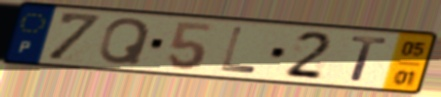2: (279, 30, 337, 82)
5: (165, 19, 216, 73)
7: (49, 10, 104, 63)
L: (218, 25, 260, 75)
Q: (96, 16, 154, 67)
T: (348, 34, 390, 84)
